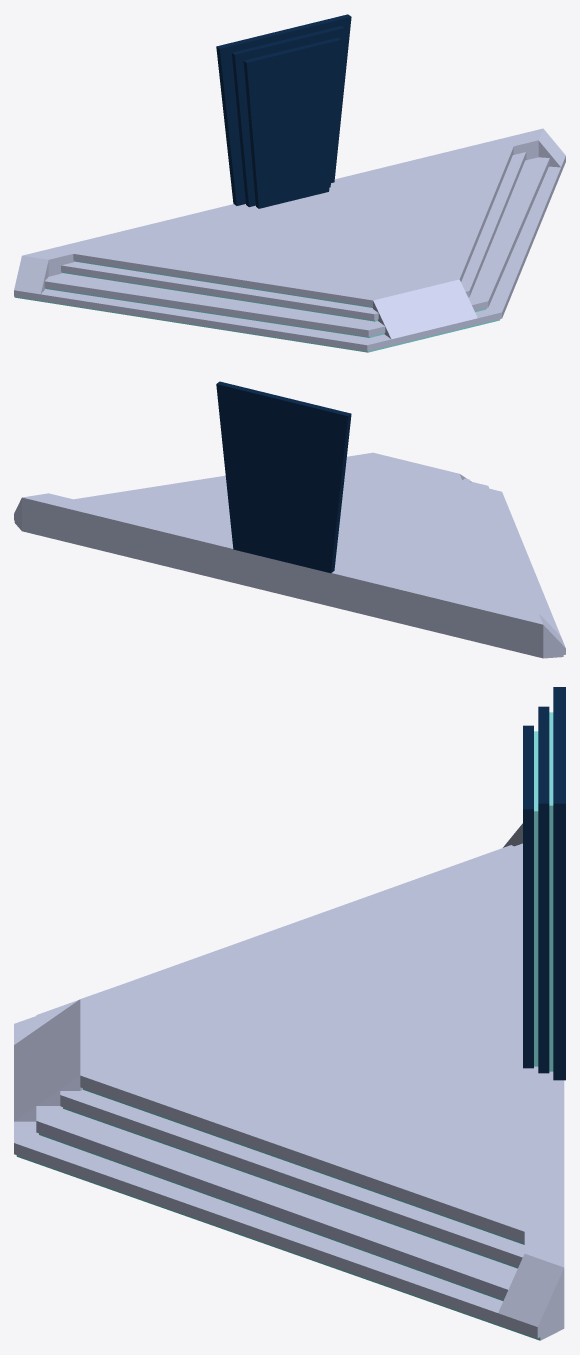
File: ESCENARIO.obj
3 views of the same model, one above another, from view 1: azimuth 30°, elevation 25°; view 2: azimuth 150°, elevation 25°; view 3: azimuth 270°, elevation 25° (orthographic). The views are drawn at different scales.
Parts seen in each view (by area): view 1: default, Color H04; view 2: default; view 3: default, Color H04.
Boxes of the visible parts, box(x1,y1,x2,y2) form: default: box(14, 14, 565, 351); Color H04: box(14, 260, 500, 352); default: box(14, 381, 565, 658); default: box(14, 687, 565, 1340); Color H04: box(16, 712, 553, 1340).
Bounding box in the file's own units: 1388 × 469 × 664.
